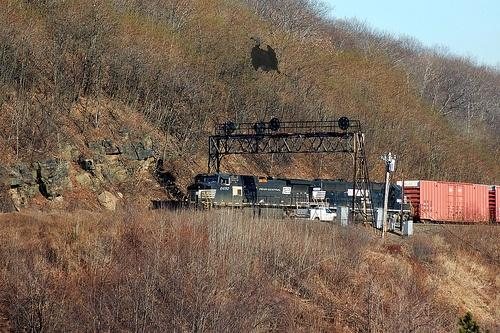tampered: (251, 38, 305, 76)
